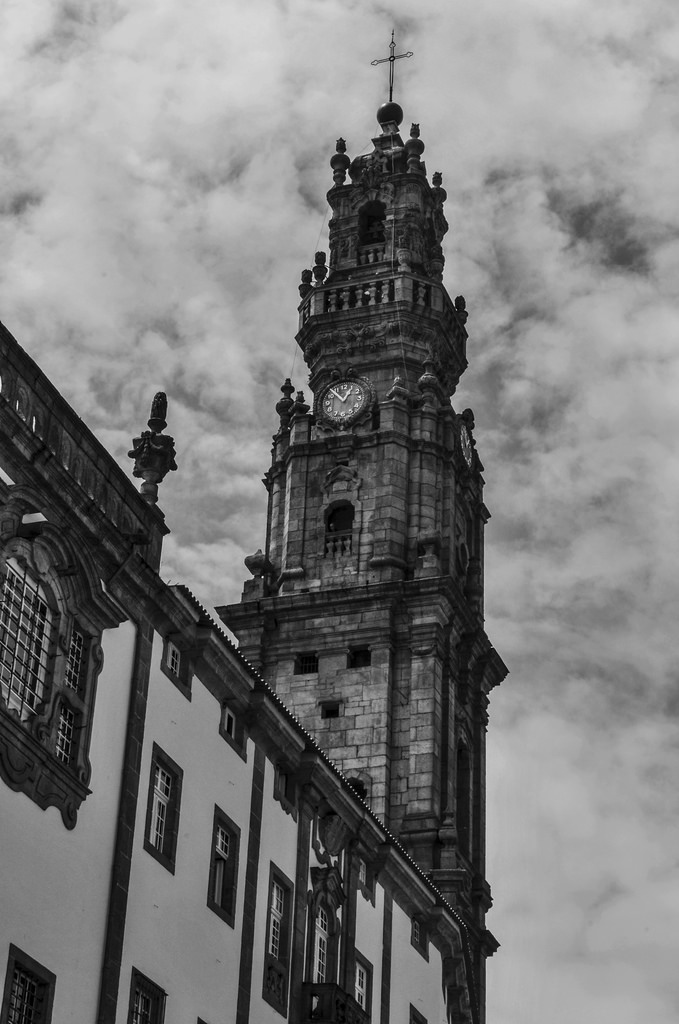clerigos: (212, 27, 511, 956)
